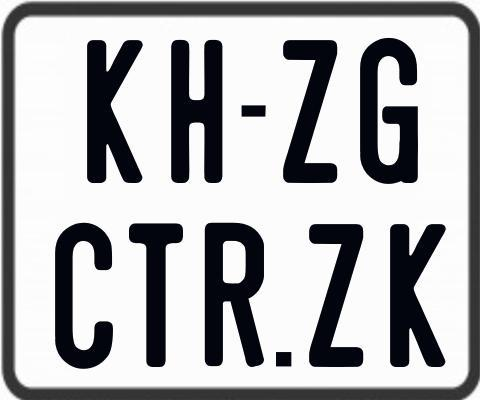C: (55, 223, 115, 369)
G: (360, 36, 421, 185)
H: (170, 38, 223, 185)
K: (84, 40, 144, 185), (388, 221, 446, 366)
R: (202, 220, 261, 370)
T: (126, 220, 185, 369)
Z: (282, 38, 341, 187), (308, 222, 362, 365)
